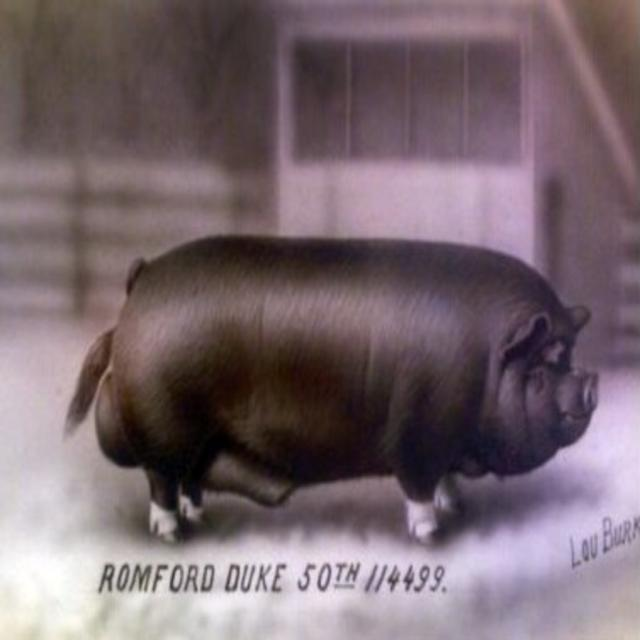Pig: (63, 233, 599, 546)
